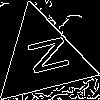N: (17, 33, 70, 80)
